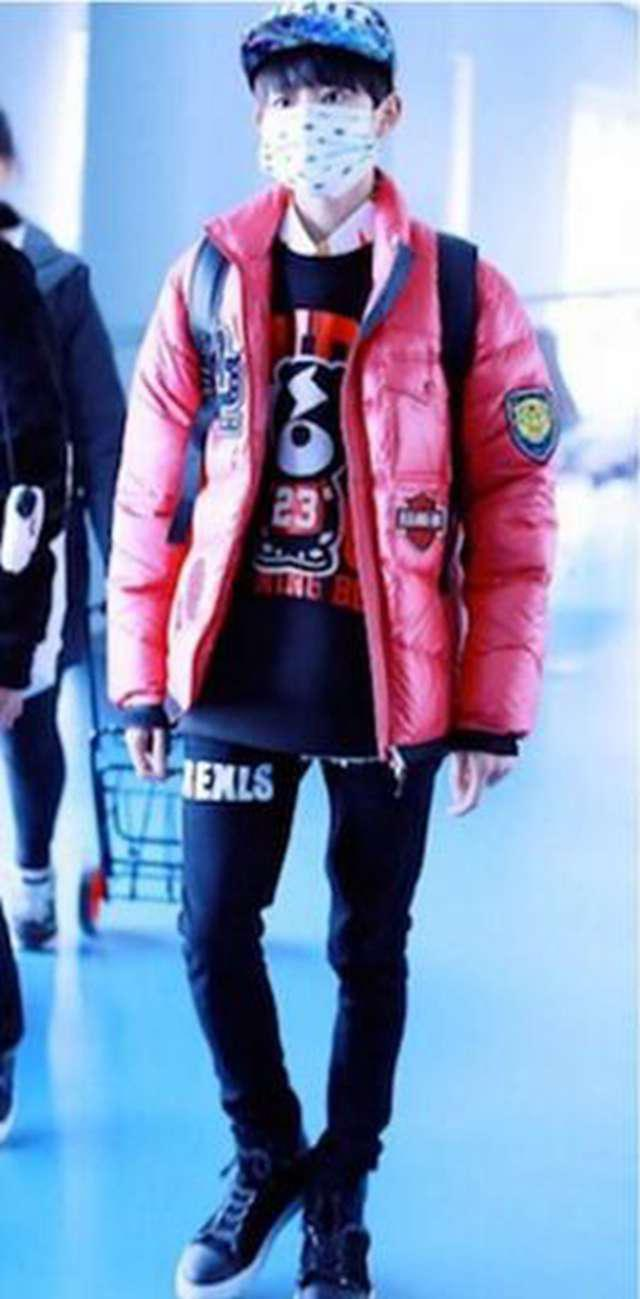OK: (258, 70, 382, 194)
